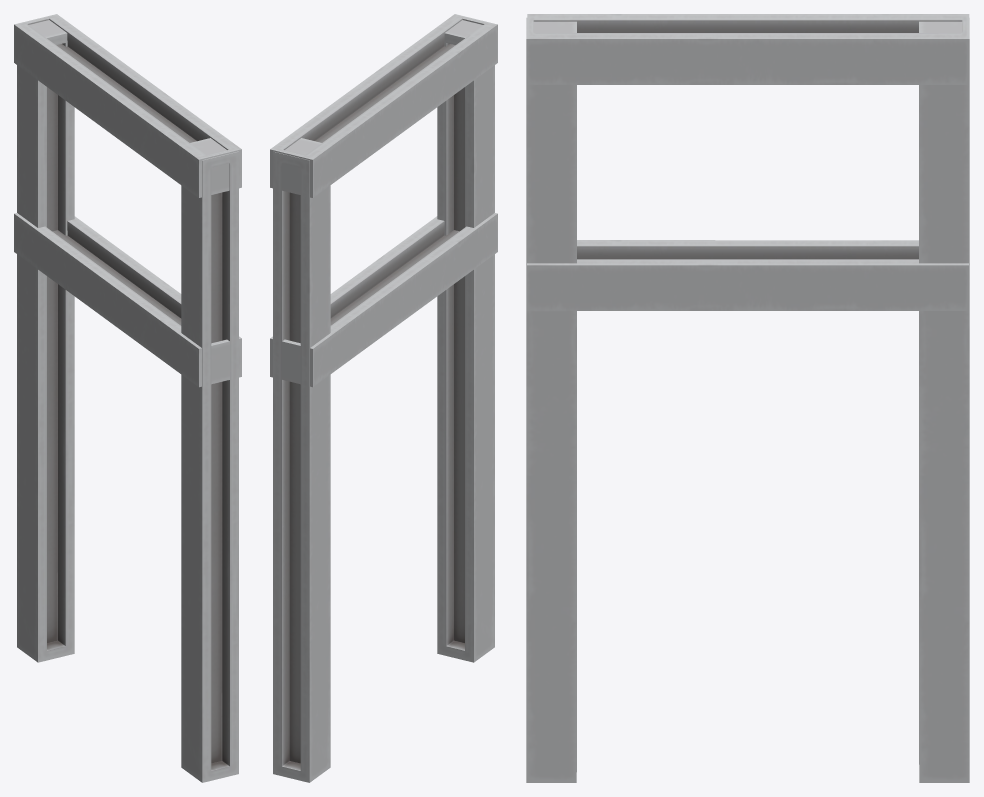
The model's file is Pfb_GlassWall__5.fbx.
3 renders of one model, left to right at view 1: azimuth 30°, elevation 25°; view 2: azimuth 150°, elevation 25°; view 3: azimuth 270°, elevation 25°, orthographic. The views are drawn at different scales.
Visible parts, largest first — view 1: Mat_SteelFrame_01 7; view 2: Mat_SteelFrame_01 7; view 3: Mat_SteelFrame_01 7.
Part boxes in pixels (left/top/right/bottom): Mat_SteelFrame_01 7: left=14, top=14, right=241, bottom=782; Mat_SteelFrame_01 7: left=270, top=14, right=497, bottom=782; Mat_SteelFrame_01 7: left=526, top=14, right=969, bottom=782.
Bounding box in the file's own units: 0.2893 × 4.01 × 2.16.
1 material, 1 textured.
